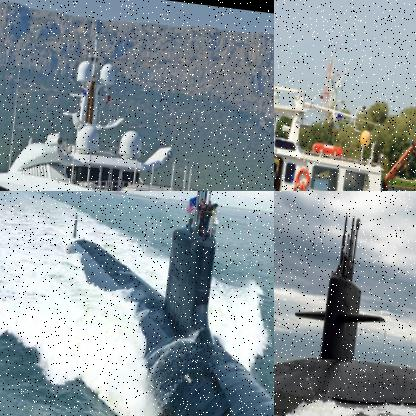Patrol Boat: (274, 66, 415, 190)
Submarine: (42, 191, 273, 415), (274, 196, 415, 415)
Yacht: (0, 13, 273, 190)
